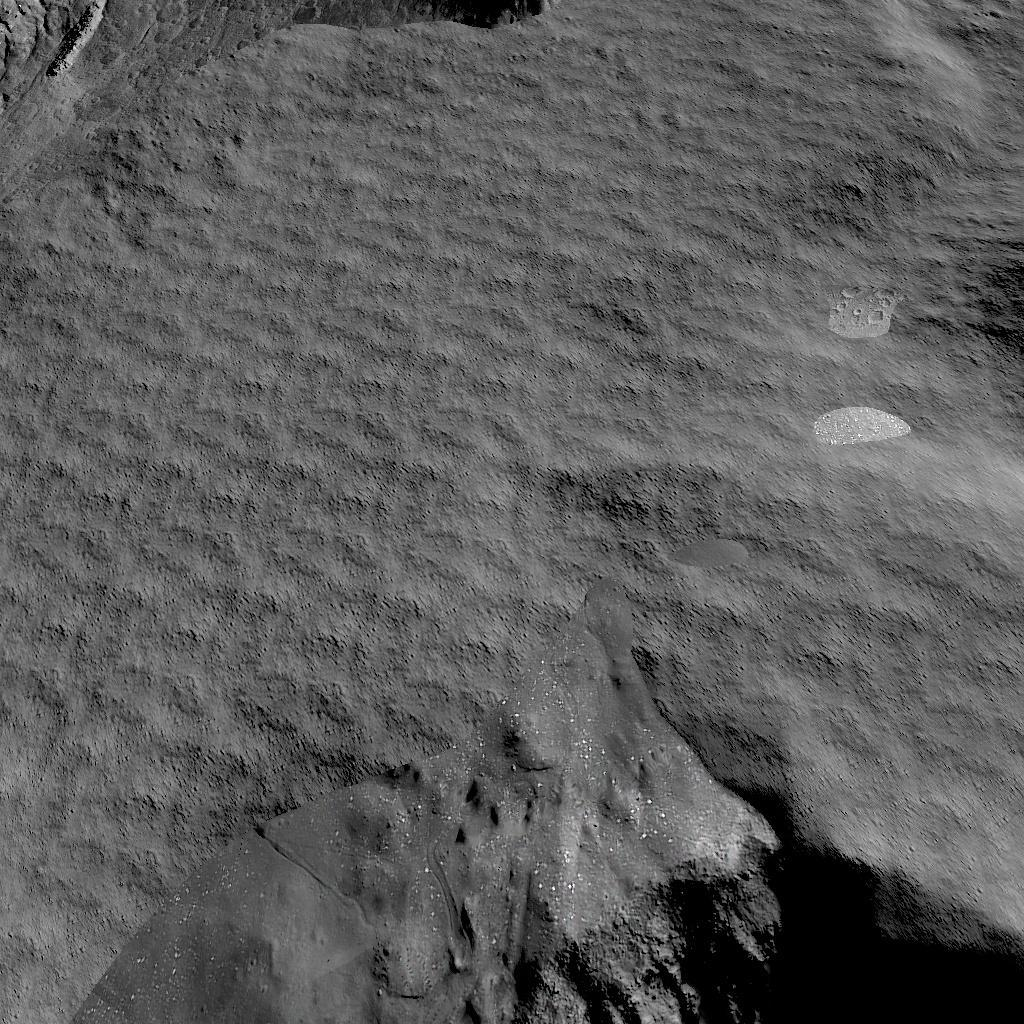Boulders: (0, 0, 553, 213)
Crater: (68, 755, 1024, 1024)
Plan surface: (0, 282, 1024, 742), (571, 0, 1024, 268)
